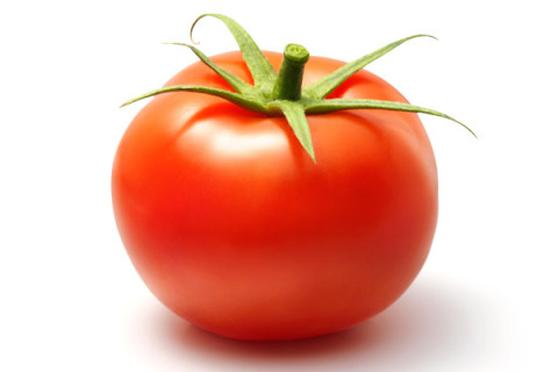tomato: (112, 47, 444, 340)
